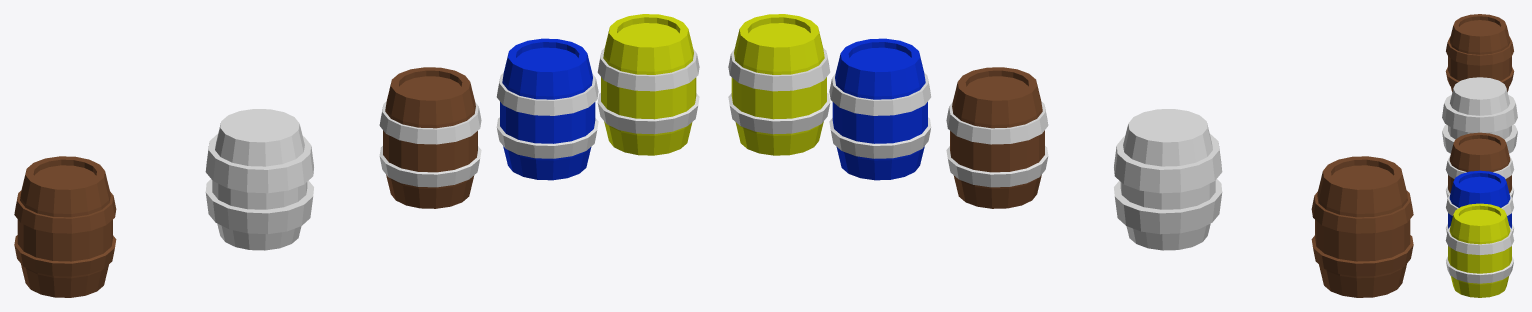
File: barril2.fbx
3 renders of one model, left to right at view 1: azimuth 30°, elevation 25°; view 2: azimuth 150°, elevation 25°; view 3: azimuth 270°, elevation 25°, orthographic. The views are drawn at different scales.
Parts seen in each view (by area): view 1: Cylinder, Cylinder.002, Cylinder.005, Cylinder.004, Cylinder.003; view 2: Cylinder, Cylinder.002, Cylinder.005, Cylinder.004, Cylinder.003; view 3: Cylinder.005, Cylinder, Cylinder.002, Cylinder.003, Cylinder.004.
Part boxes in pixels (bbox=[...]): Cylinder: bbox=[205, 109, 313, 250]; Cylinder.002: bbox=[14, 156, 116, 297]; Cylinder.005: bbox=[597, 14, 699, 155]; Cylinder.004: bbox=[496, 38, 598, 180]; Cylinder.003: bbox=[379, 67, 481, 208]; Cylinder: bbox=[1114, 109, 1222, 250]; Cylinder.002: bbox=[1311, 156, 1413, 297]; Cylinder.005: bbox=[728, 14, 830, 155]; Cylinder.004: bbox=[829, 38, 931, 180]; Cylinder.003: bbox=[946, 67, 1048, 208]; Cylinder.005: bbox=[1445, 203, 1514, 297]; Cylinder: bbox=[1442, 77, 1517, 153]; Cylinder.002: bbox=[1445, 14, 1514, 91]; Cylinder.003: bbox=[1445, 132, 1514, 198]; Cylinder.004: bbox=[1446, 170, 1513, 233].
Bounding box in the file's own units: 1939 × 298 × 285.
